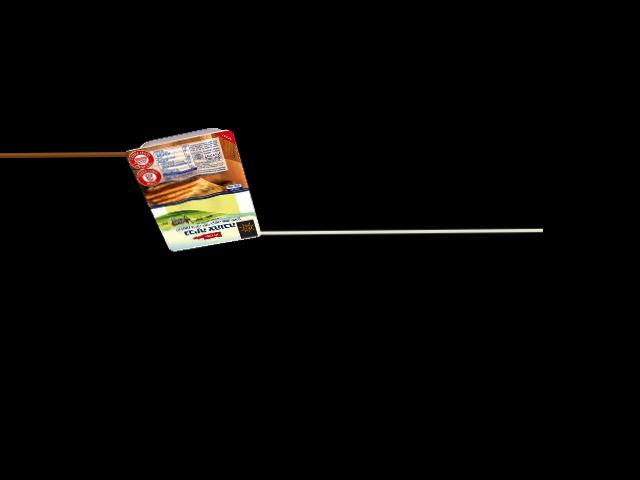cheese: (145, 130, 249, 250)
